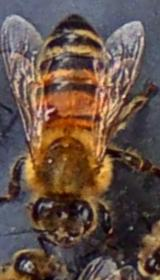varroa_mite: (24, 90, 62, 126)
